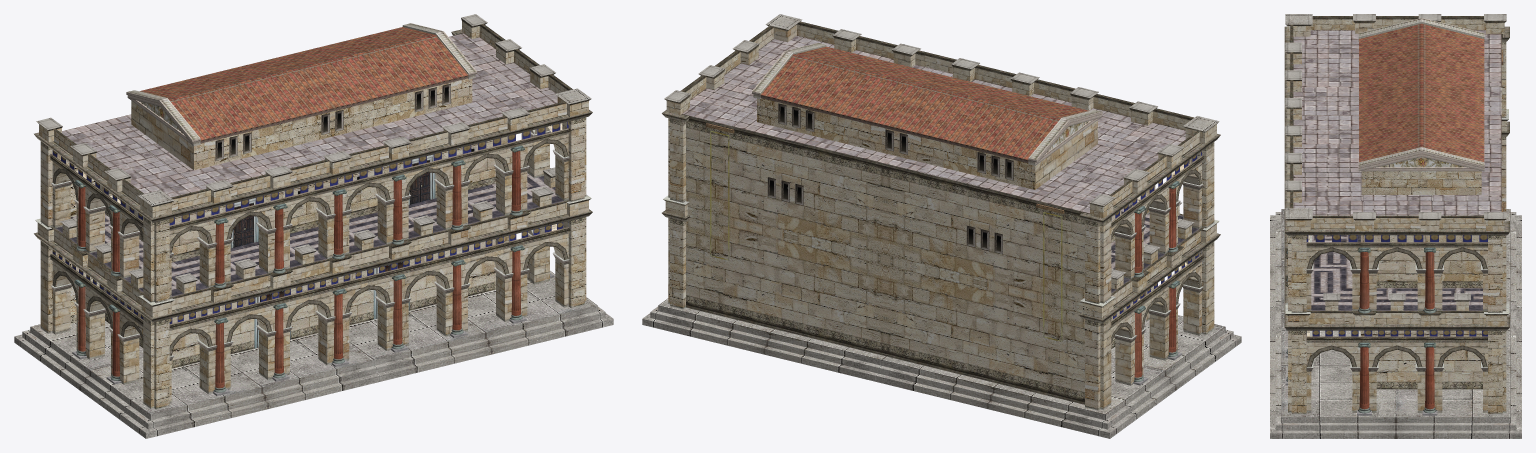
File: roman_cc.dae
3 views of the same model, side by side, from view 1: azimuth 30°, elevation 25°; view 2: azimuth 150°, elevation 25°; view 3: azimuth 270°, elevation 25° (orthographic). The views are drawn at different scales.
Visible parts, largest first — view 1: Basilica; view 2: Basilica; view 3: Basilica.
Part boxes in pixels (x1,y1,x2,y2): Basilica: [14, 14, 613, 438]; Basilica: [642, 14, 1241, 438]; Basilica: [1270, 14, 1521, 438].
Bounding box in the file's own units: 36.6 × 17.87 × 19.29.
